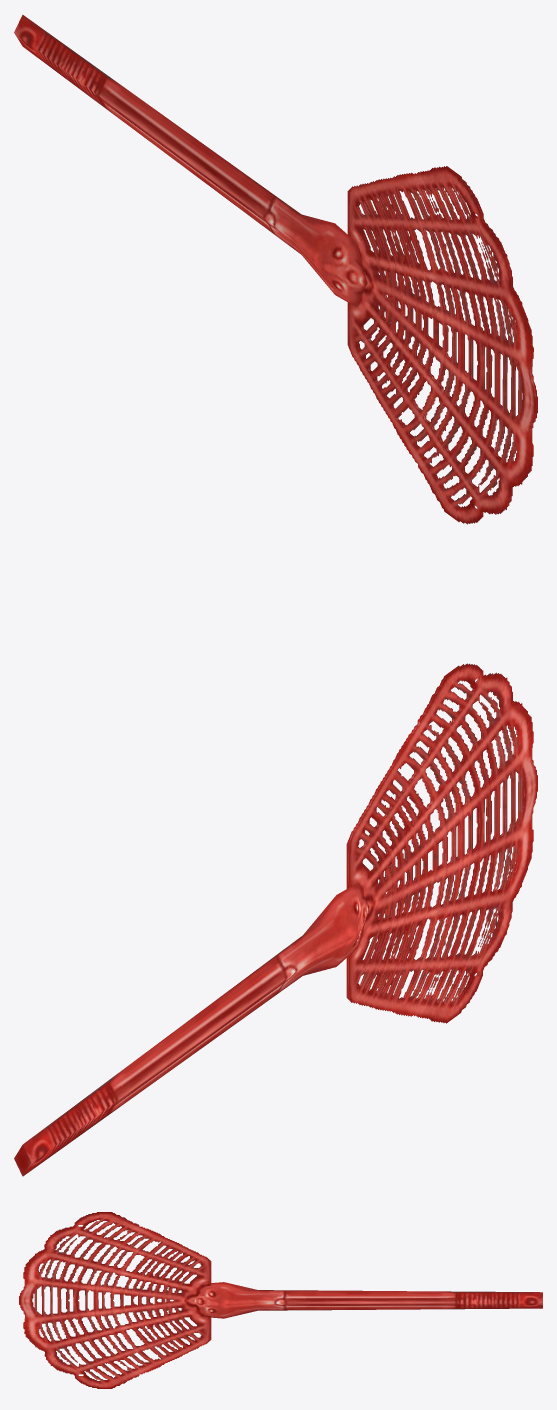
The picture shows the model from 3 angles, top to bottom: view 1: azimuth 30°, elevation 25°; view 2: azimuth 150°, elevation 25°; view 3: azimuth 270°, elevation 25°; orthographic projection. The views are drawn at different scales.
Parts seen in each view (by area): view 1: i003020; view 2: i003020; view 3: i003020.
Part boxes in pixels (x1,y1,x2,y2): i003020: [14, 14, 537, 524]; i003020: [14, 663, 537, 1176]; i003020: [19, 1212, 542, 1388].
Bounding box in the file's own units: 4.69 × 43.22 × 109.
1 material, 1 textured.
